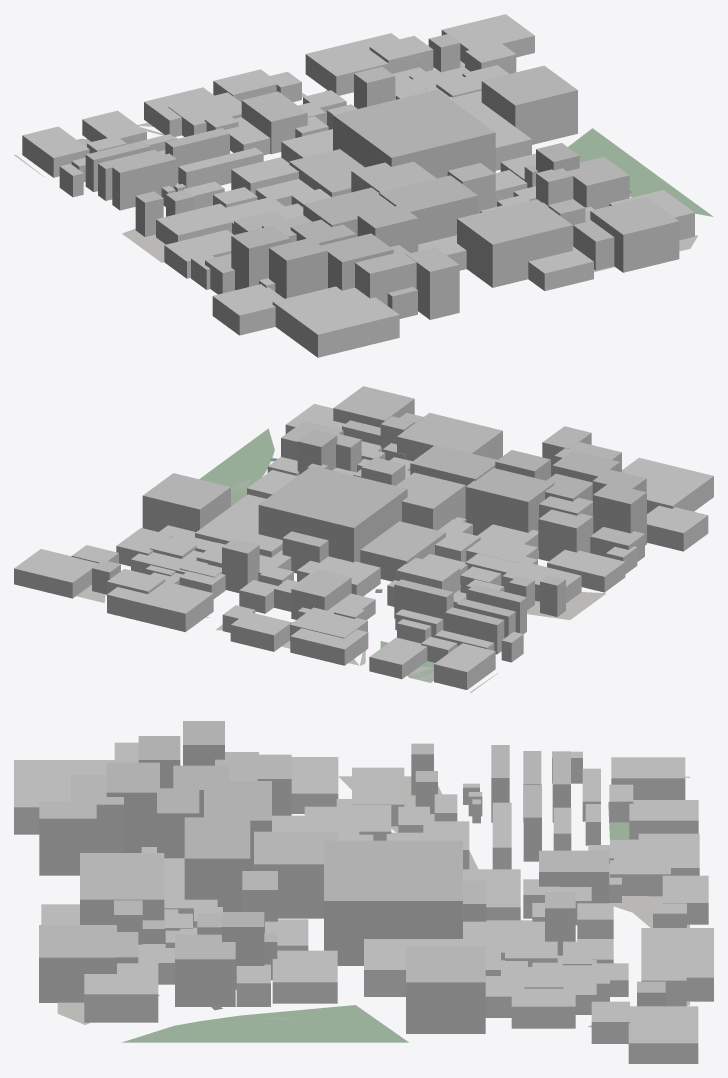
File: 115_104_mid.glb
3 renders of one model, top to bottom at view 1: azimuth 30°, elevation 25°; view 2: azimuth 150°, elevation 25°; view 3: azimuth 270°, elevation 25°, orthographic. The views are drawn at different scales.
Size of the model in its own units: 556 by 59.7 by 554.
